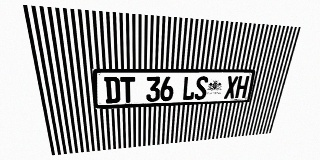3: (146, 76, 160, 102)
6: (160, 76, 174, 101)
D: (104, 77, 120, 103)
H: (235, 76, 249, 98)
L: (182, 76, 196, 100)
S: (194, 76, 209, 100)
T: (120, 77, 135, 103)
X: (224, 76, 239, 99)
